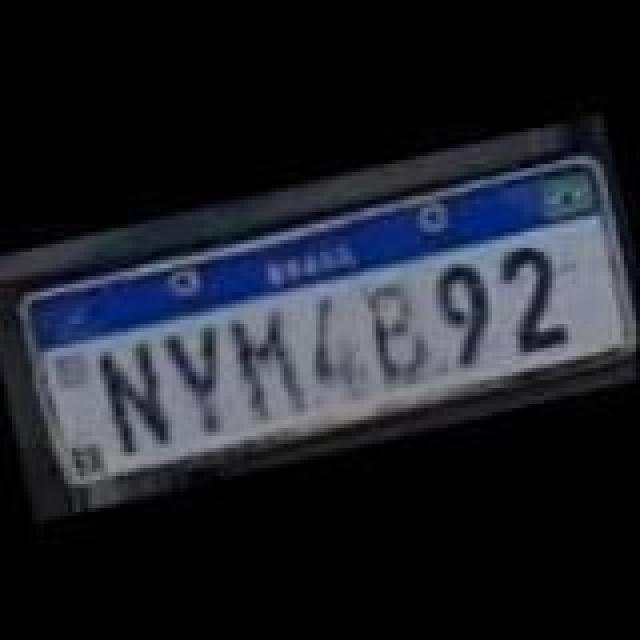2: (488, 240, 572, 360)
4: (298, 294, 370, 406)
9: (428, 254, 512, 374)
B: (358, 276, 438, 392)
M: (224, 302, 316, 430)
N: (94, 342, 174, 458)
Y: (160, 314, 244, 434)
